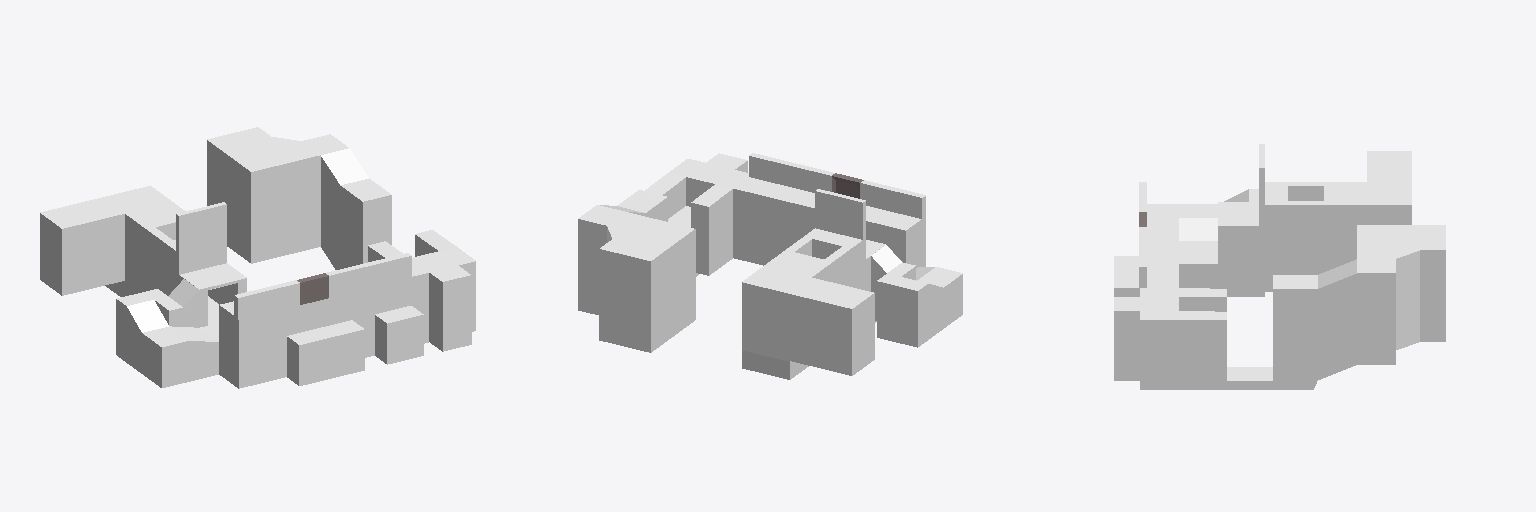
The model's file is stage2.obj.
The picture shows the model from 3 angles: view 1: azimuth 30°, elevation 25°; view 2: azimuth 150°, elevation 25°; view 3: azimuth 270°, elevation 25°; orthographic projection.
Parts seen in each view (by area): view 1: stage2; view 2: stage2; view 3: stage2.
Boxes of the visible parts, box(x1,y1,x2,y2) form: stage2: box(40, 127, 475, 388); stage2: box(578, 153, 962, 379); stage2: box(1114, 144, 1445, 389).
Bounding box in the file's own units: 44.25 × 19.45 × 42.44.